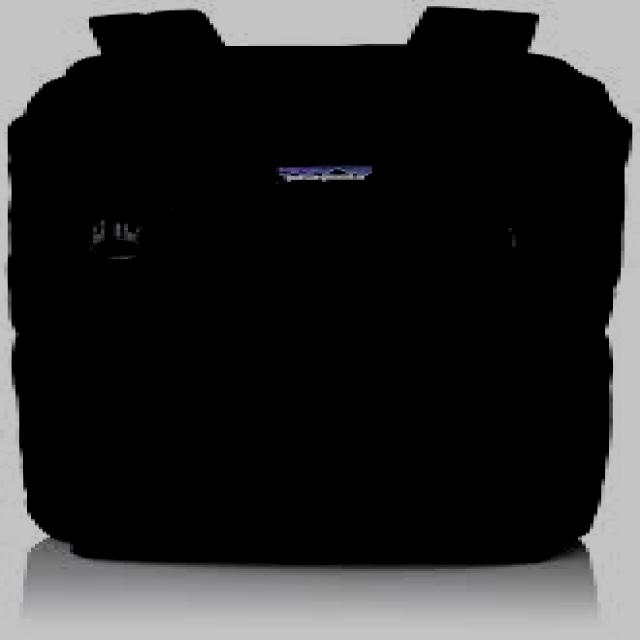backpack: (5, 6, 633, 564)
